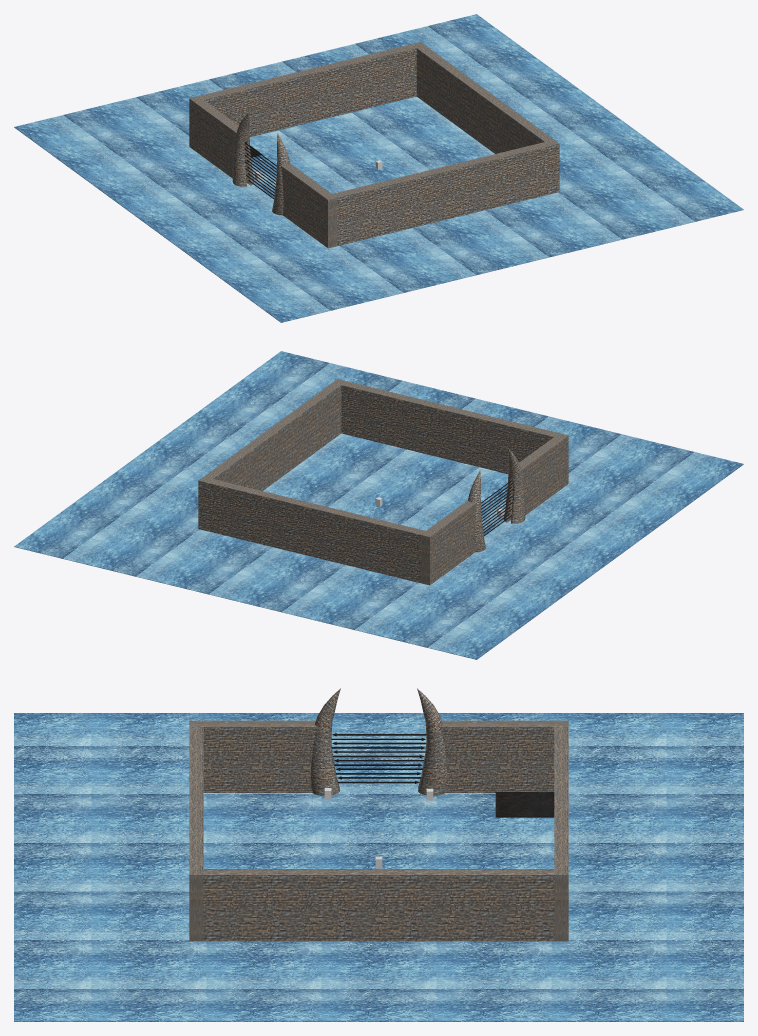
The model's file is hitbox.fbx.
3 renders of one model, top to bottom at view 1: azimuth 30°, elevation 25°; view 2: azimuth 150°, elevation 25°; view 3: azimuth 270°, elevation 25°, orthographic. The views are drawn at different scales.
Visible parts, largest first — view 1: ground, swall, nwall, ewall, wwall2, wwall1, horns; view 2: ground, nwall, swall, ewall, wwall1, wwall2, horns; view 3: ground, ewall, wwall2, wwall1, horns, nwall, swall, elevator.
Part boxes in pixels (<box>): ground: <box>14,14,743,322</box>; swall: <box>332,140,559,245</box>; nwall: <box>199,42,425,136</box>; ewall: <box>416,46,553,153</box>; wwall2: <box>280,163,337,248</box>; wwall1: <box>189,96,238,178</box>; horns: <box>232,112,289,215</box>; ground: <box>14,351,743,659</box>; nwall: <box>198,477,425,582</box>; swall: <box>332,379,558,473</box>; ewall: <box>204,383,341,490</box>; wwall1: <box>420,500,477,585</box>; wwall2: <box>519,433,568,515</box>; horns: <box>468,449,525,552</box>; ground: <box>14,713,743,1021</box>; ewall: <box>203,869,554,941</box>; wwall2: <box>189,720,318,792</box>; wwall1: <box>439,720,568,792</box>; horns: <box>310,688,447,796</box>; nwall: <box>554,727,568,941</box>; swall: <box>189,727,203,941</box>; elevator: <box>495,792,554,817</box>.
Bounding box in the file's own units: 100 × 19.07 × 100.
